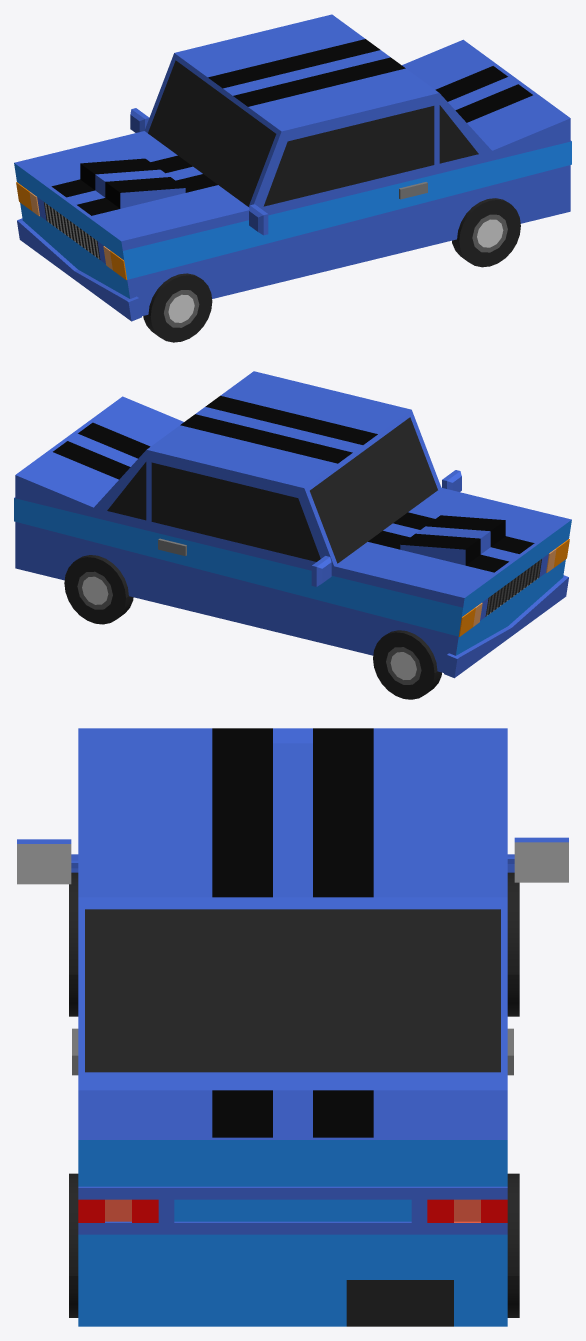
File: car.fbx
3 renders of one model, top to bottom at view 1: azimuth 30°, elevation 25°; view 2: azimuth 150°, elevation 25°; view 3: azimuth 270°, elevation 25°, orthographic. The views are drawn at different scales.
Visible parts, largest first — view 1: Model, Group1, Group3; view 2: Model, Group2, Group4; view 3: Model, Group4, Group2, Group1, Group3.
Part boxes in pixels (x1,y1,x2,y2): Model: [14, 14, 571, 321]; Group1: [452, 198, 520, 267]; Group3: [143, 273, 212, 342]; Model: [14, 371, 571, 678]; Group2: [373, 630, 441, 699]; Group4: [64, 555, 133, 624]; Model: [17, 728, 568, 1326]; Group4: [507, 1173, 519, 1317]; Group2: [507, 872, 519, 1016]; Group1: [69, 1173, 78, 1317]; Group3: [69, 872, 78, 1016].
Bounding box in the file's own units: 155 × 60.31 × 82.19.
